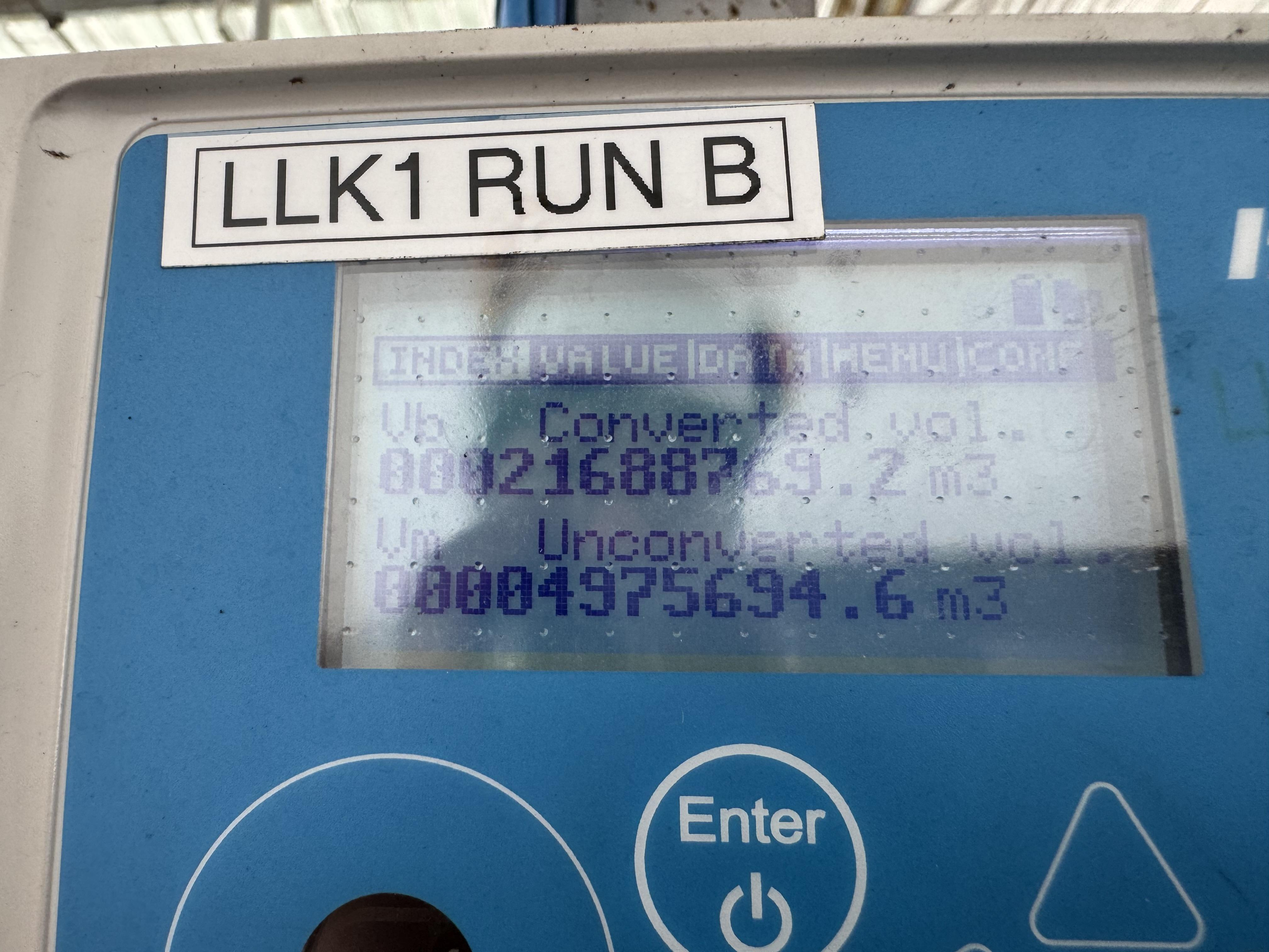digital_screen: (319, 205, 1212, 677)
